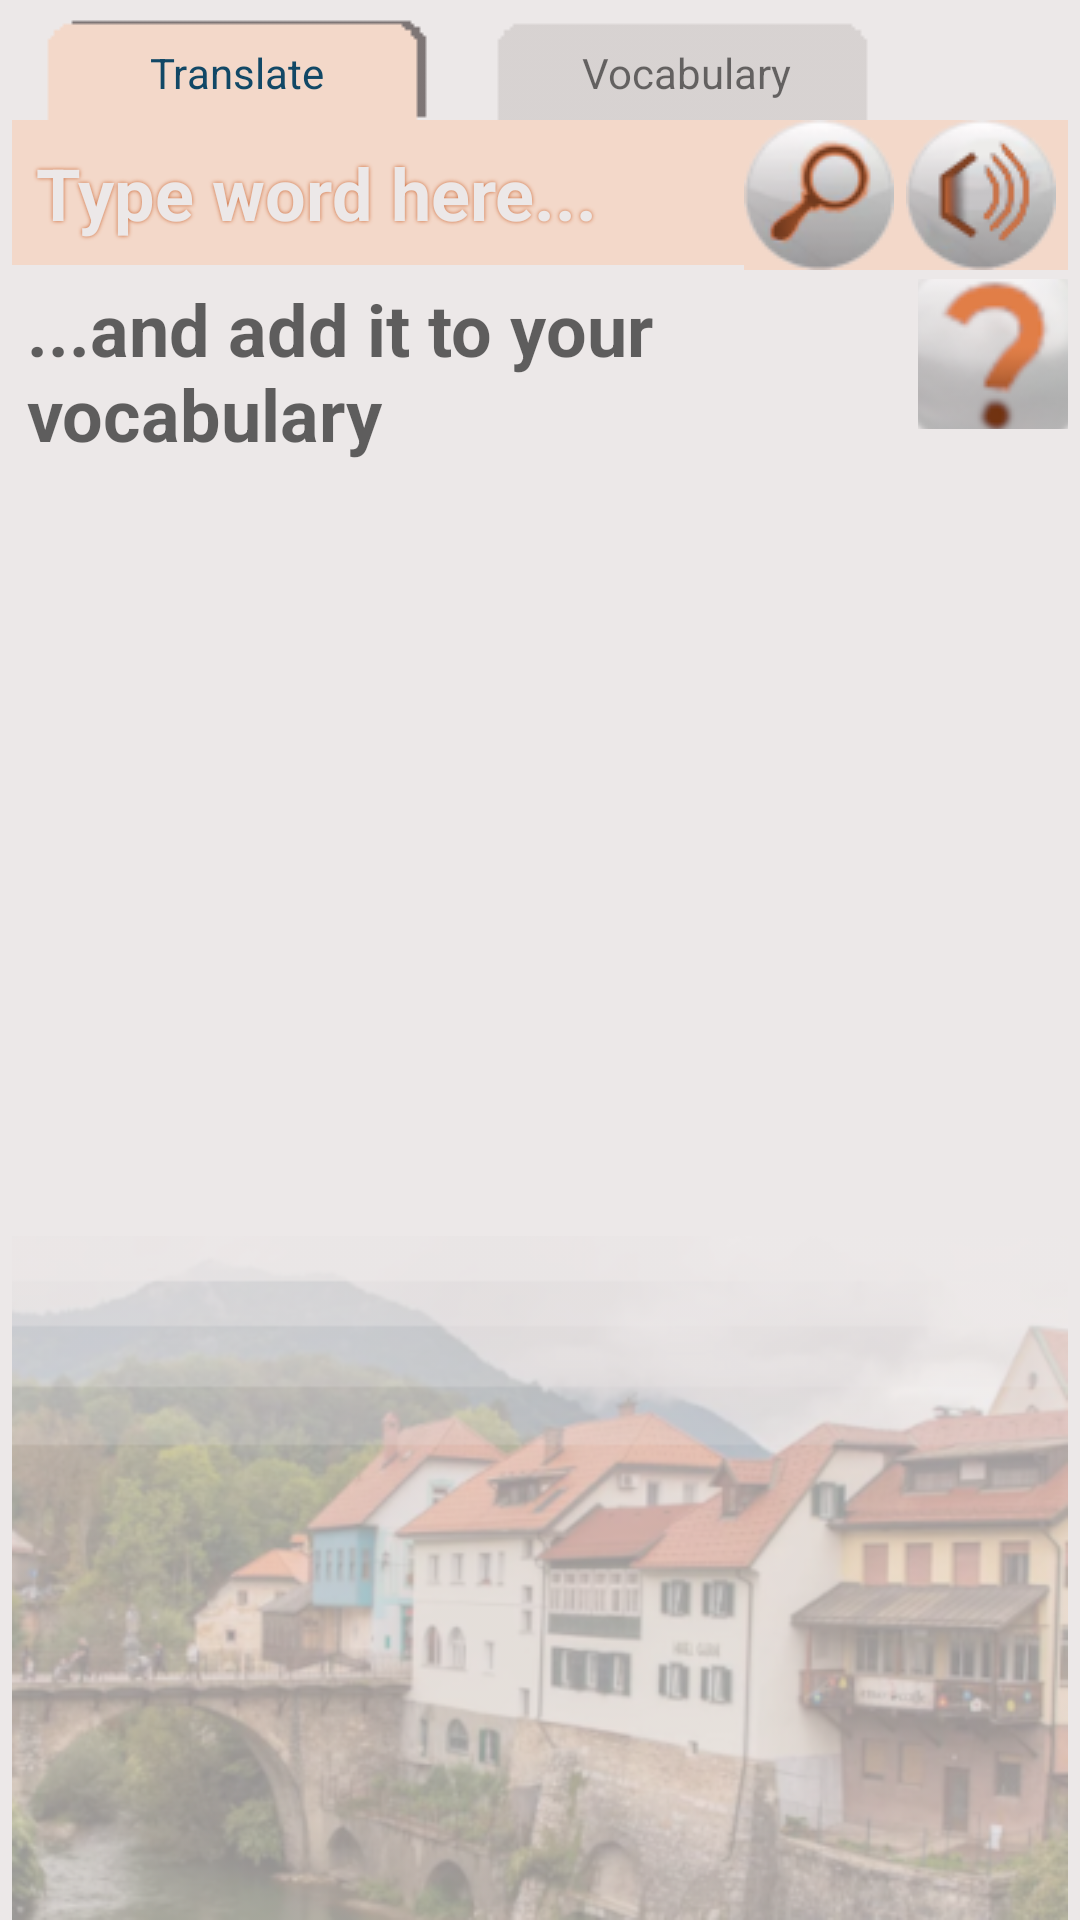

Icons on this 1080 x 1920 Android screen, each with the point to tap as (x=x, y=y):
Play: (x=981, y=195)
Search: (x=819, y=195)
